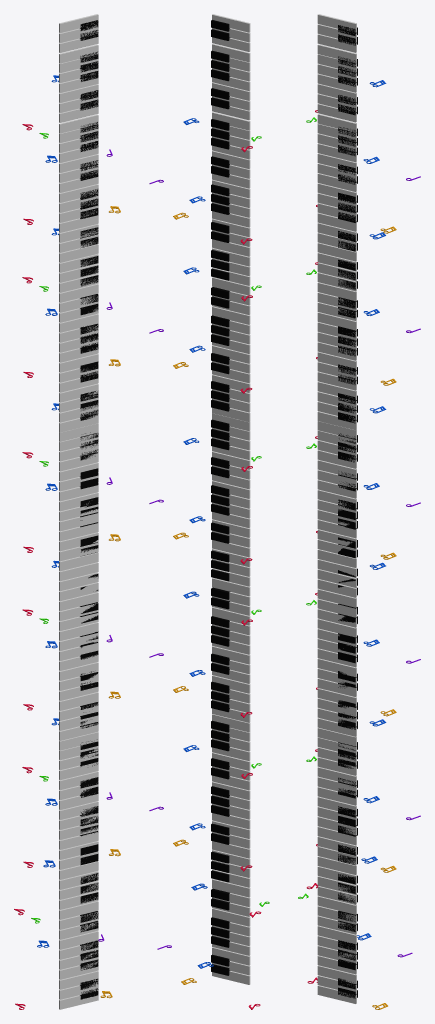
File: paino.dae
The picture shows the model from 3 angles, left to right: view 1: azimuth 30°, elevation 25°; view 2: azimuth 150°, elevation 25°; view 3: azimuth 330°, elevation 25°; orthographic projection. The views are drawn at different scales.
Visible parts, largest first — view 1: Cube.161, Cube.173, Cube.067, Cube.121, Cube.070, Cube.057, Cube.013, Cube.118, Cube.064, Cube.060, Cube.010, Cube.125 (+87 smaller); view 2: Cube.013, Cube.121, Cube.067, Cube.118, Cube.010, Cube.017, Cube.125, Cube.071, Cube.064, Cube.060, Cube.114, Cube.006 (+30 smaller); view 3: Cube.173, Cube.161, Cube.064, Cube.067, Cube.121, Cube.013, Cube.010, Cube.026, Cube.080, Cube.125, Cube.068, Cube.071 (+79 smaller).
Part boxes in pixels (box(x1,y1,x2,y2)): Cube.161: box(59, 114, 98, 133); Cube.173: box(59, 44, 98, 63); Cube.067: box(59, 592, 98, 611); Cube.121: box(59, 284, 98, 302); Cube.070: box(59, 562, 98, 581); Cube.057: box(59, 692, 98, 710); Cube.013: box(59, 901, 98, 919); Cube.118: box(59, 314, 98, 332); Cube.064: box(59, 622, 98, 640); Cube.060: box(59, 662, 98, 680); Cube.010: box(59, 931, 98, 949); Cube.125: box(59, 244, 98, 262); Cube.013: box(212, 879, 250, 897); Cube.121: box(212, 277, 250, 295); Cube.067: box(212, 578, 250, 596); Cube.118: box(212, 306, 250, 324); Cube.010: box(212, 908, 250, 926); Cube.017: box(212, 841, 250, 858); Cube.125: box(212, 239, 250, 256); Cube.071: box(212, 540, 250, 557); Cube.064: box(212, 607, 250, 625); Cube.060: box(212, 646, 250, 664); Cube.114: box(212, 345, 250, 363); Cube.006: box(212, 947, 250, 965); Cube.173: box(317, 44, 356, 63); Cube.161: box(317, 114, 356, 132); Cube.064: box(317, 618, 356, 637); Cube.067: box(317, 589, 356, 607); Cube.121: box(317, 282, 356, 301); Cube.013: box(317, 896, 356, 914); Cube.010: box(317, 925, 356, 944); Cube.026: box(317, 767, 356, 785); Cube.080: box(317, 460, 356, 478); Cube.125: box(317, 242, 356, 261); Cube.068: box(317, 579, 356, 597); Cube.071: box(317, 549, 356, 567).
Bounding box in the file's own units: 24.74 × 14.95 × 226.
